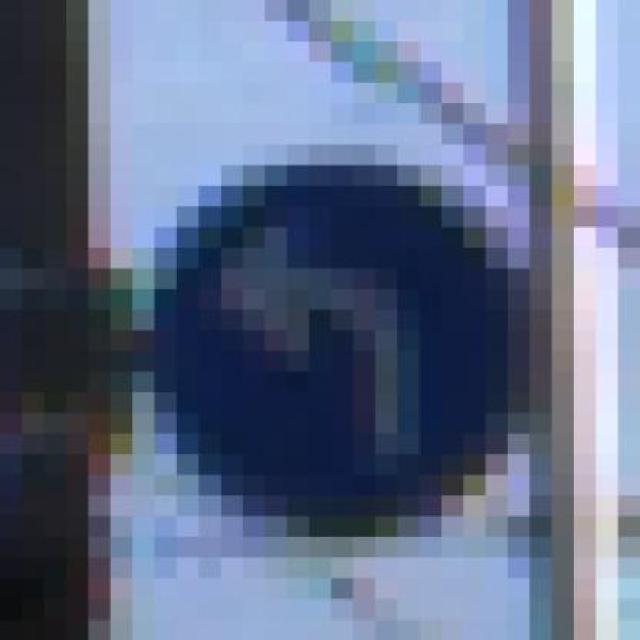Turn left ahead: (155, 103, 530, 557)
